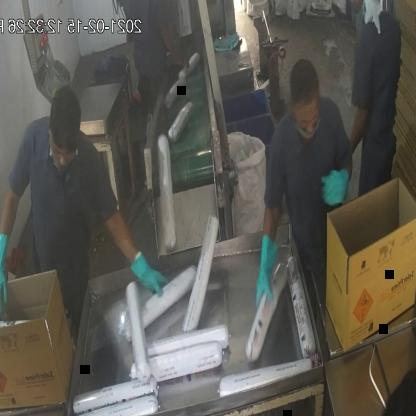glove: (118, 245, 179, 316), (248, 220, 289, 320), (317, 158, 356, 209), (0, 228, 19, 322)
no_glove: (154, 21, 196, 74), (349, 95, 374, 149)
